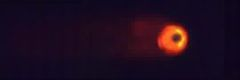keyhole: (171, 31, 184, 46)
